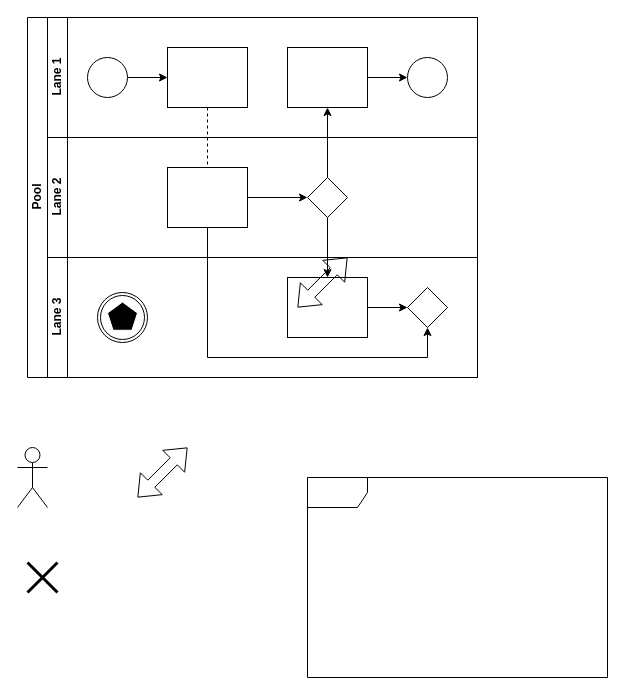
The diagram is 625 pixels wide and 695 high, and some of its shapes have lost their labels. The centre of each missing label's shape, as x and y in pixels:
"Actor" goes at (32,477).
"frame" goes at (457,577).
